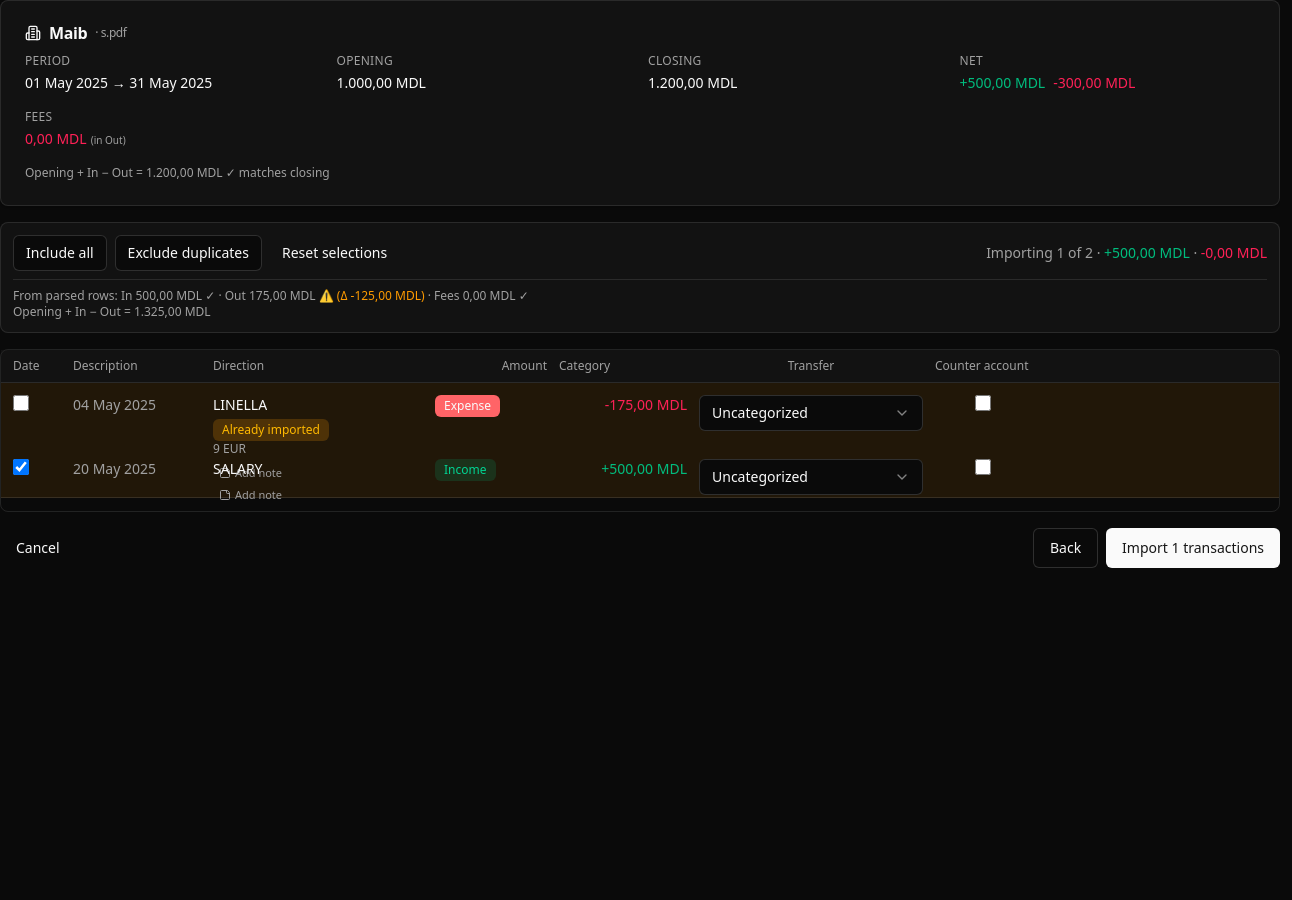
it: ImportPreview — bulk actions + commit edges › commits the selected rows and toasts the imported count
Check: the element with test id "import-counter" is shown, box [986,243,1267,263]
What coordinates should you click on to do the following:
click the button with test id "import-commit-button"
I would click on:
 (1193, 548)
Its box is [1106,528,1280,568].
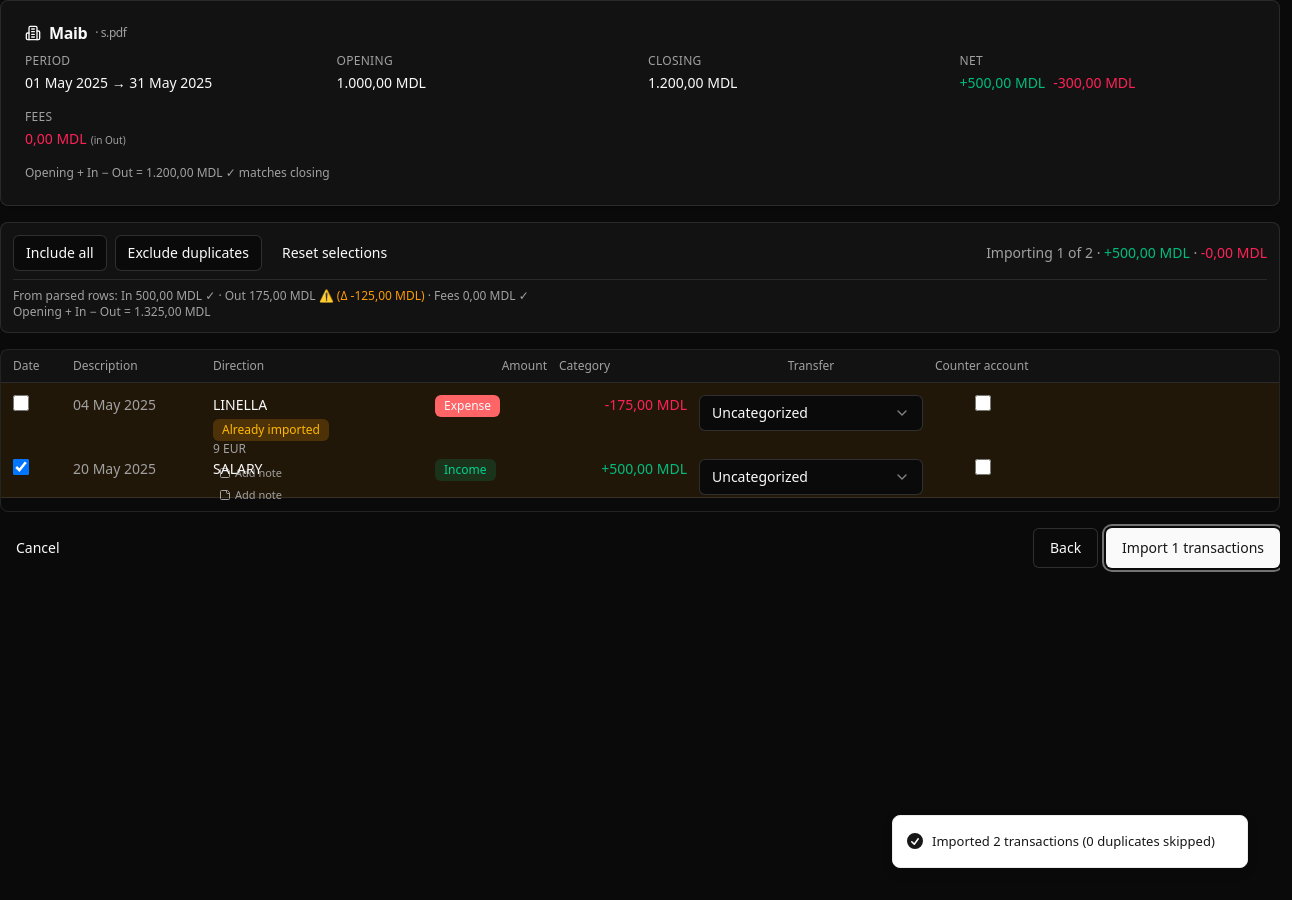
Check: the text "Imported 2 transactions (0 duplicates skipped)" is shown, box [932,832,1215,851]
